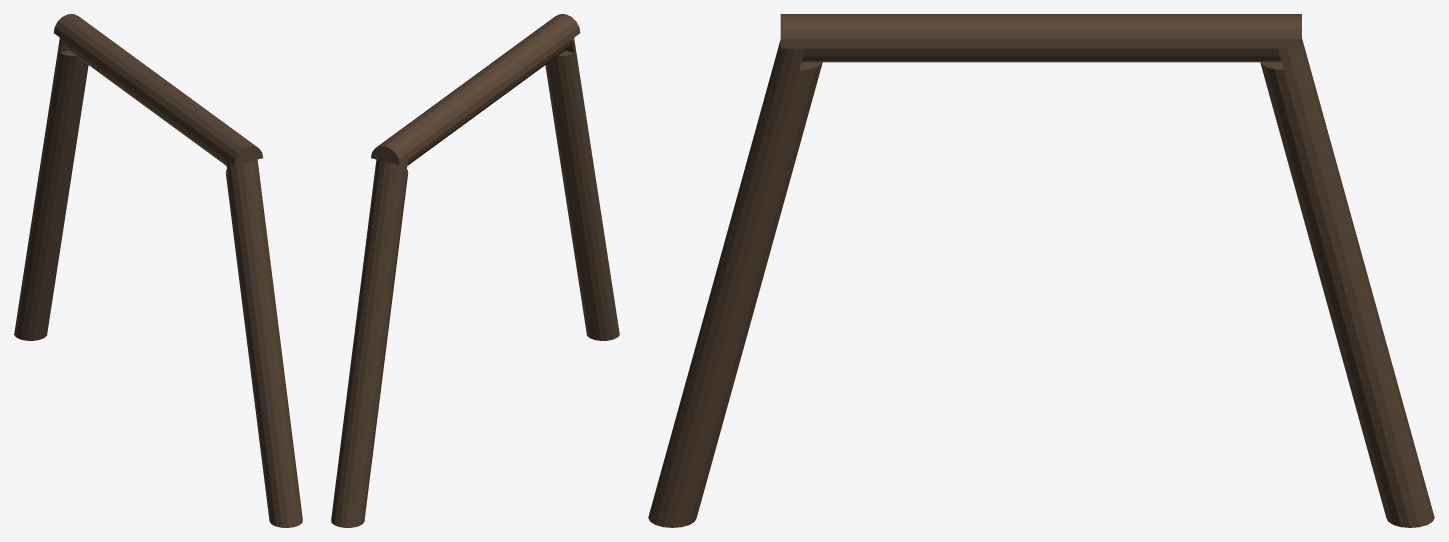
File: wip_three_sup.glb
3 renders of one model, left to right at view 1: azimuth 30°, elevation 25°; view 2: azimuth 150°, elevation 25°; view 3: azimuth 270°, elevation 25°, orthographic. The views are drawn at different scales.
Parts seen in each view (by area): view 1: product-11b35f92-8af3-454c-83e6-7467bfee86b5-body; view 2: product-11b35f92-8af3-454c-83e6-7467bfee86b5-body; view 3: product-11b35f92-8af3-454c-83e6-7467bfee86b5-body.
Part boxes in pixels (x1=…): product-11b35f92-8af3-454c-83e6-7467bfee86b5-body: x1=14, y1=14, x2=302, y2=527; product-11b35f92-8af3-454c-83e6-7467bfee86b5-body: x1=331, y1=14, x2=619, y2=527; product-11b35f92-8af3-454c-83e6-7467bfee86b5-body: x1=648, y1=14, x2=1434, y2=527.
Bounding box in the file's own units: 0.0278 × 0.3166 × 0.45.
